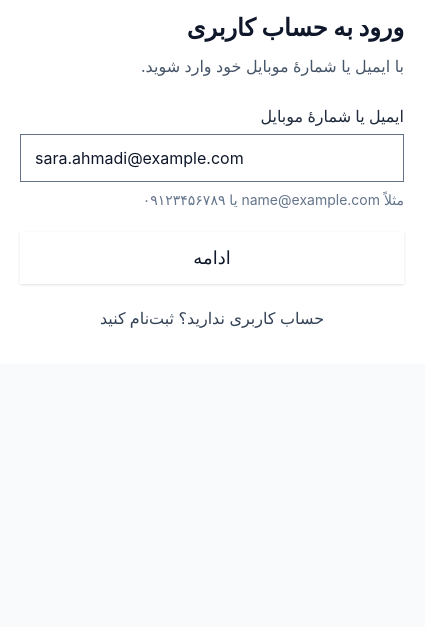
Scenario: focus after a failure › a notice for the step (a disabled account): the pressed button keeps it
Click the button "ادامه".
click(212, 258)  # box [20, 232, 404, 284]
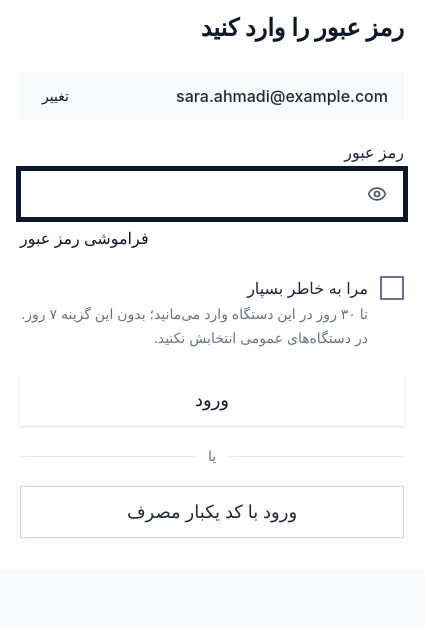
Type "Firefly@1234" into the password field labelled "رمز عبور".
click(188, 194); type("Firefly@1234")  # box [21, 171, 355, 217]
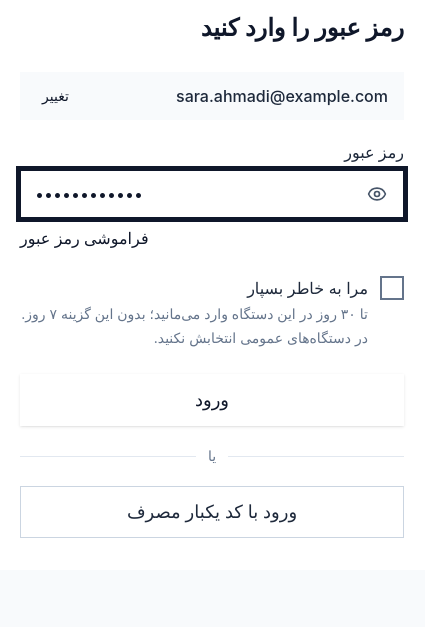
Click the button "ورود".
click(212, 400)  # box [20, 374, 404, 426]
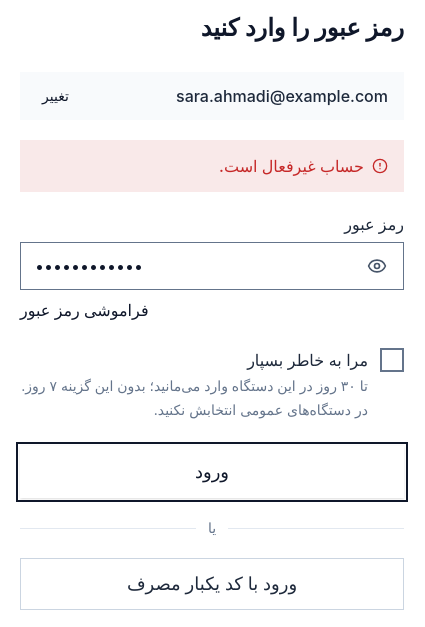
Expected: the message reads "حساب غیرفعال است.", [219, 156, 364, 176]
